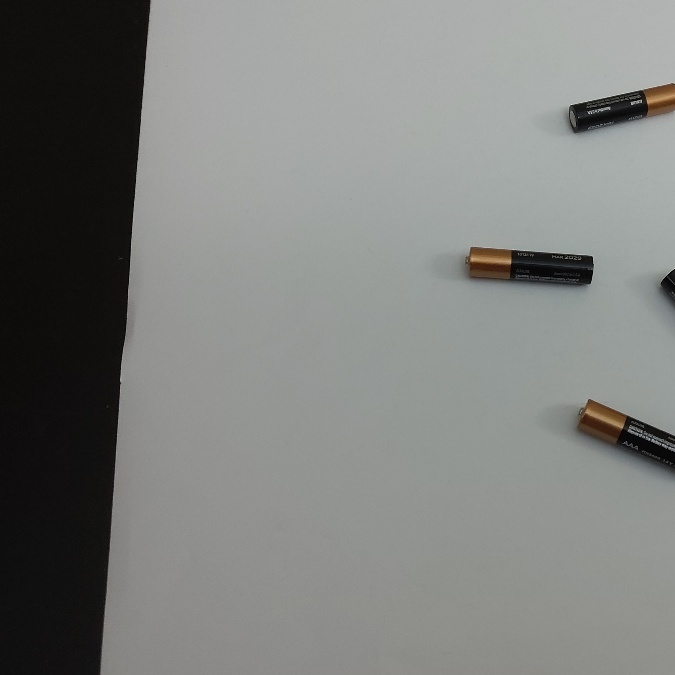battery: (461, 244, 595, 289)
